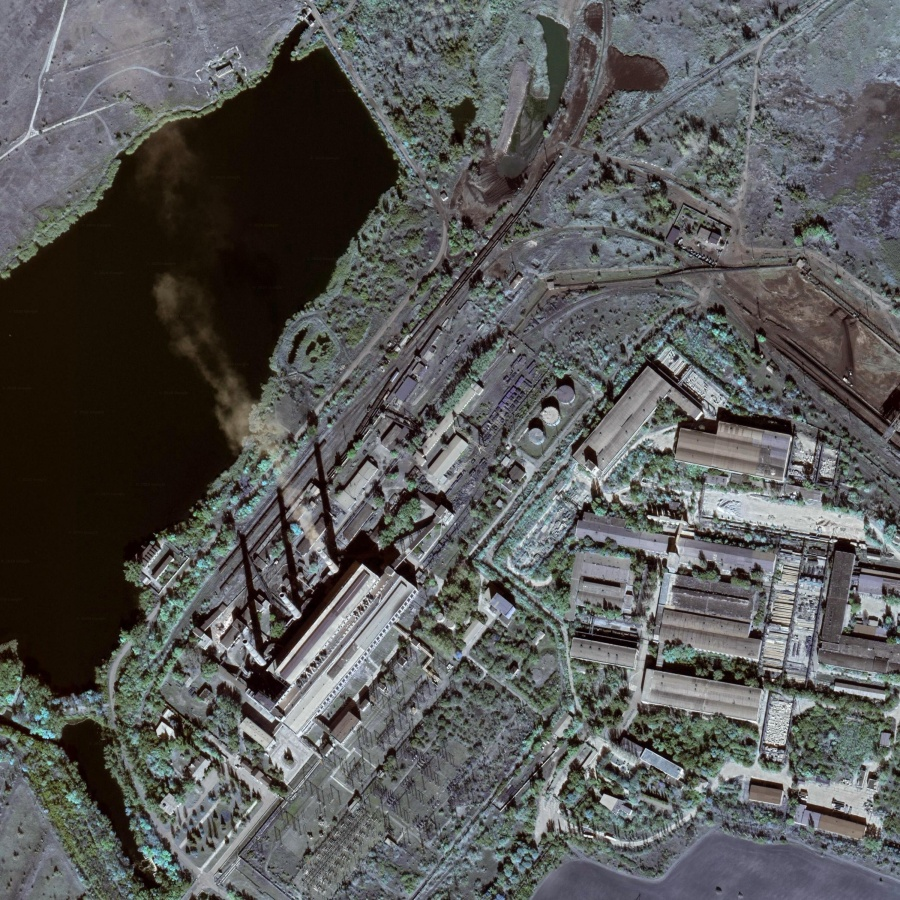PowerPlant: (202, 362, 567, 718)
